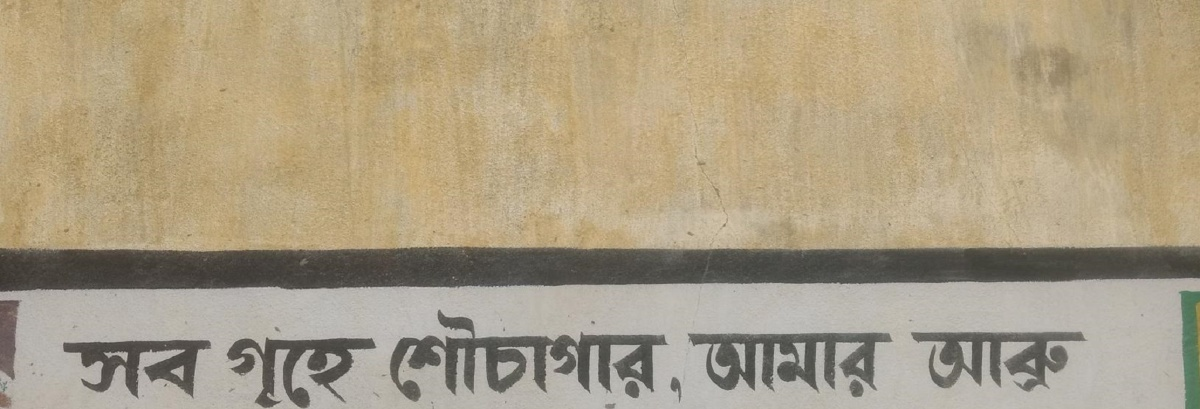text: (673, 302, 689, 408), (385, 302, 400, 408), (401, 302, 416, 408), (417, 302, 432, 408), (433, 302, 448, 408), (449, 302, 464, 408), (465, 302, 480, 408), (481, 302, 496, 408), (497, 302, 512, 408), (513, 302, 528, 408), (529, 302, 544, 408), (545, 302, 560, 408), (561, 302, 576, 408), (577, 302, 592, 408), (593, 302, 608, 408), (609, 302, 624, 408), (625, 302, 640, 408), (641, 302, 656, 408), (657, 302, 672, 408), (225, 328, 240, 408), (241, 328, 256, 408), (257, 328, 272, 408), (273, 328, 288, 408), (289, 328, 304, 408), (305, 328, 320, 408), (321, 328, 336, 408), (337, 328, 352, 408), (353, 328, 368, 408), (881, 325, 897, 400), (689, 325, 704, 400), (705, 325, 720, 400), (721, 325, 736, 400), (737, 325, 752, 400), (753, 325, 768, 400), (769, 325, 784, 400), (785, 325, 800, 400), (801, 325, 816, 400), (817, 325, 832, 400), (833, 325, 848, 400), (849, 325, 864, 400), (865, 325, 880, 400), (913, 328, 928, 395), (929, 328, 944, 395), (945, 328, 960, 395), (961, 328, 976, 395), (977, 328, 992, 395), (993, 328, 1008, 395), (1009, 328, 1024, 395), (1025, 328, 1040, 395), (1041, 328, 1056, 395), (1057, 328, 1072, 395), (1073, 328, 1088, 395), (65, 336, 80, 402), (81, 336, 96, 402), (97, 336, 112, 402), (113, 336, 128, 402), (129, 336, 144, 402), (145, 336, 160, 402), (161, 336, 176, 402), (177, 336, 192, 402), (193, 336, 208, 402), (369, 328, 378, 408), (209, 336, 218, 402), (59, 336, 64, 402), (220, 328, 224, 408), (910, 328, 912, 395), (1089, 328, 1091, 395), (687, 325, 688, 400)
